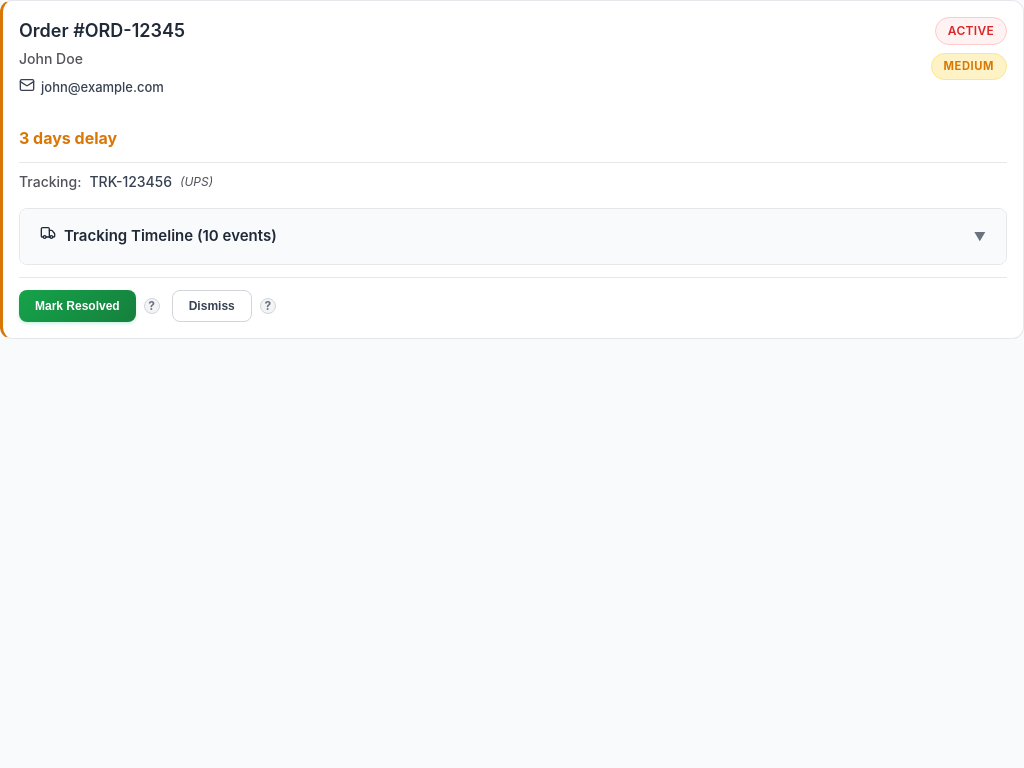
Test: AlertCard › Tracking Timeline Display › should display "Show All Events" button when more than 5 events
Click the text "Tracking Timeline (10 events)": (158, 236) [40, 225, 277, 248]
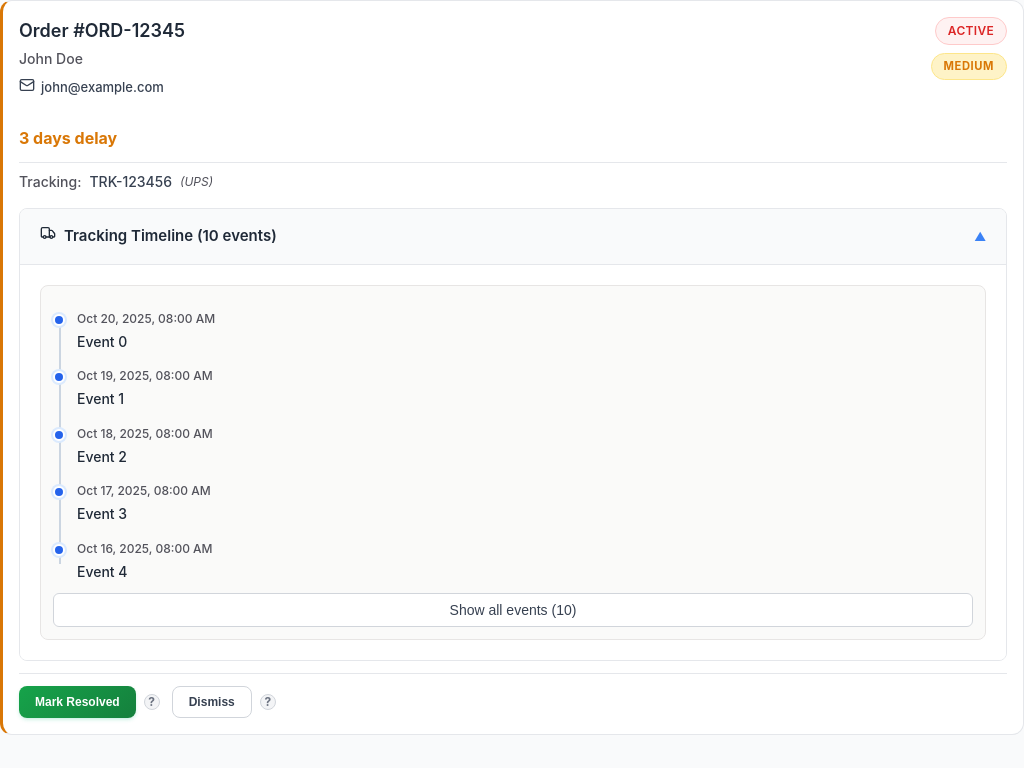
Expected: the button "Show all events (10)" is shown, [53, 594, 973, 628]
